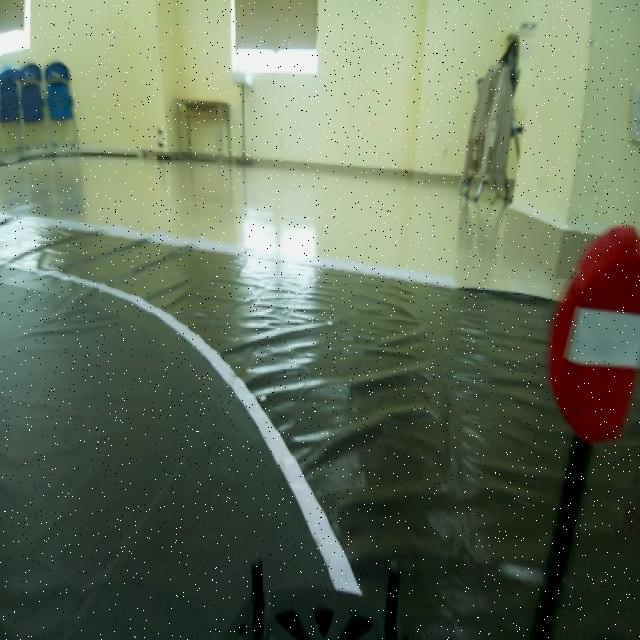no_entry: (553, 222, 637, 436)
